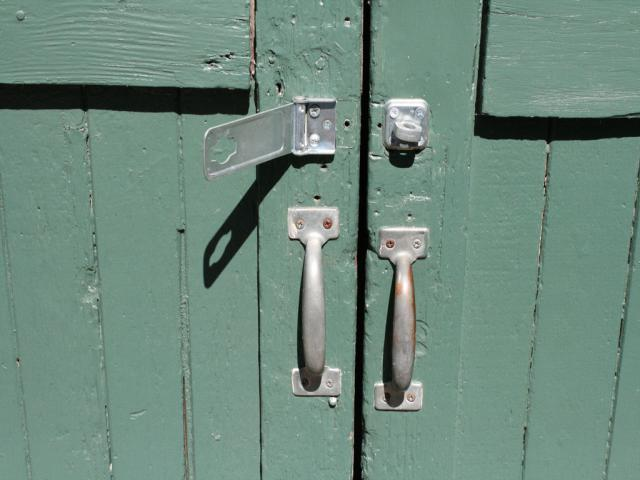Door-handle: (370, 221, 432, 413), (287, 202, 344, 396)
